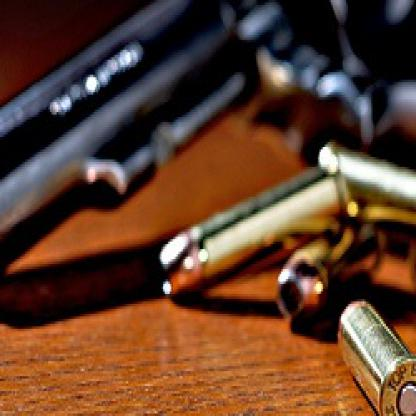gun: (0, 0, 415, 302)
